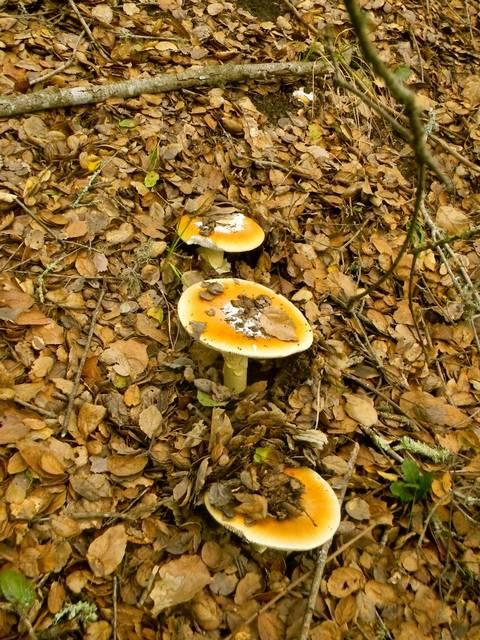edible_mushroom: (176, 276, 313, 394), (203, 465, 341, 551), (174, 210, 265, 273)
